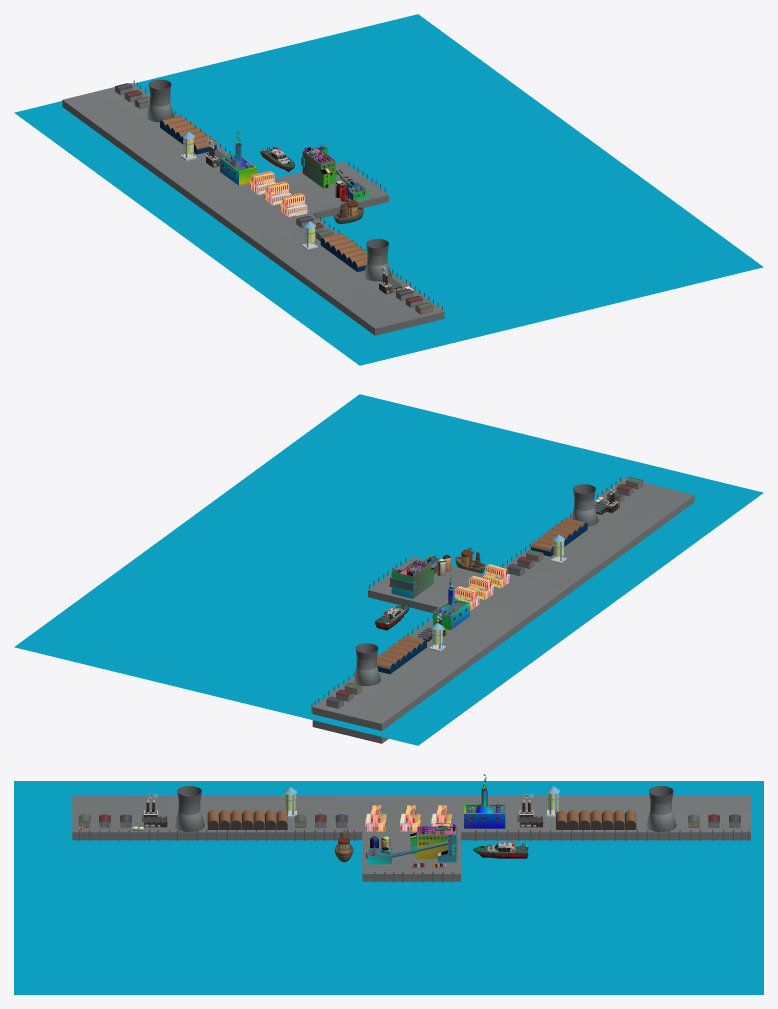
Rendered from port envi_A.fbx.
3 views of the same model, one above another, from view 1: azimuth 30°, elevation 25°; view 2: azimuth 150°, elevation 25°; view 3: azimuth 270°, elevation 25° (orthographic). The views are drawn at different scales.
Parts seen in each view (by area): view 1: Plane, Cube, Factory_001_T_Palitra_1_0.006, Factory_001_T_Palitra_1_0.002, Factory_001_T_Palitra_1_0.001, Cylinder.066, Factory_001_T_Palitra_1_0.005, Cylinder.065; view 2: Plane, Cube, Factory_001_T_Palitra_1_0.006, Factory_001_T_Palitra_1_0.001, Factory_001_T_Palitra_1_0.002, Cylinder.066, Factory_001_T_Palitra_1_0.005, Cylinder.065; view 3: Plane, Cube, Factory_001_T_Palitra_1_0.006, Factory_001_T_Palitra_1_0.001, Factory_001_T_Palitra_1_0.002, Factory_001_T_Palitra_1_0.005, Cylinder.065, Cylinder.066, _gltfNode_1, Object_4, Object_4.001, defaultMaterial.001.
Part boxes in pixels (<box>): Plane: <box>14,14,763,365</box>; Cube: <box>62,83,444,335</box>; Factory_001_T_Palitra_1_0.006: <box>301,144,368,201</box>; Factory_001_T_Palitra_1_0.002: <box>320,233,367,271</box>; Factory_001_T_Palitra_1_0.001: <box>160,115,216,154</box>; Cylinder.066: <box>146,79,174,122</box>; Factory_001_T_Palitra_1_0.005: <box>220,130,256,185</box>; Cylinder.065: <box>363,239,391,281</box>; Plane: <box>14,394,763,745</box>; Cube: <box>312,478,694,743</box>; Factory_001_T_Palitra_1_0.006: <box>390,554,450,598</box>; Factory_001_T_Palitra_1_0.001: <box>377,635,426,674</box>; Factory_001_T_Palitra_1_0.002: <box>531,518,587,556</box>; Cylinder.066: <box>352,643,380,685</box>; Factory_001_T_Palitra_1_0.005: <box>433,574,469,630</box>; Cylinder.065: <box>571,484,598,526</box>; Plane: <box>14,781,763,994</box>; Cube: <box>72,795,750,881</box>; Factory_001_T_Palitra_1_0.006: <box>366,823,457,864</box>; Factory_001_T_Palitra_1_0.001: <box>556,810,636,829</box>; Factory_001_T_Palitra_1_0.002: <box>207,810,287,829</box>; Factory_001_T_Palitra_1_0.005: <box>464,774,505,828</box>; Cylinder.065: <box>174,786,204,831</box>; Cylinder.066: <box>645,786,676,831</box>; _gltfNode_1: <box>473,839,528,858</box>; Object_4: <box>142,793,167,827</box>; Object_4.001: <box>517,793,543,827</box>; defaultMaterial.001: <box>334,828,353,862</box>.
Size of the model in its own units: 47200 by 7379 by 69943.
Materials: 36 (36 with a texture image).
